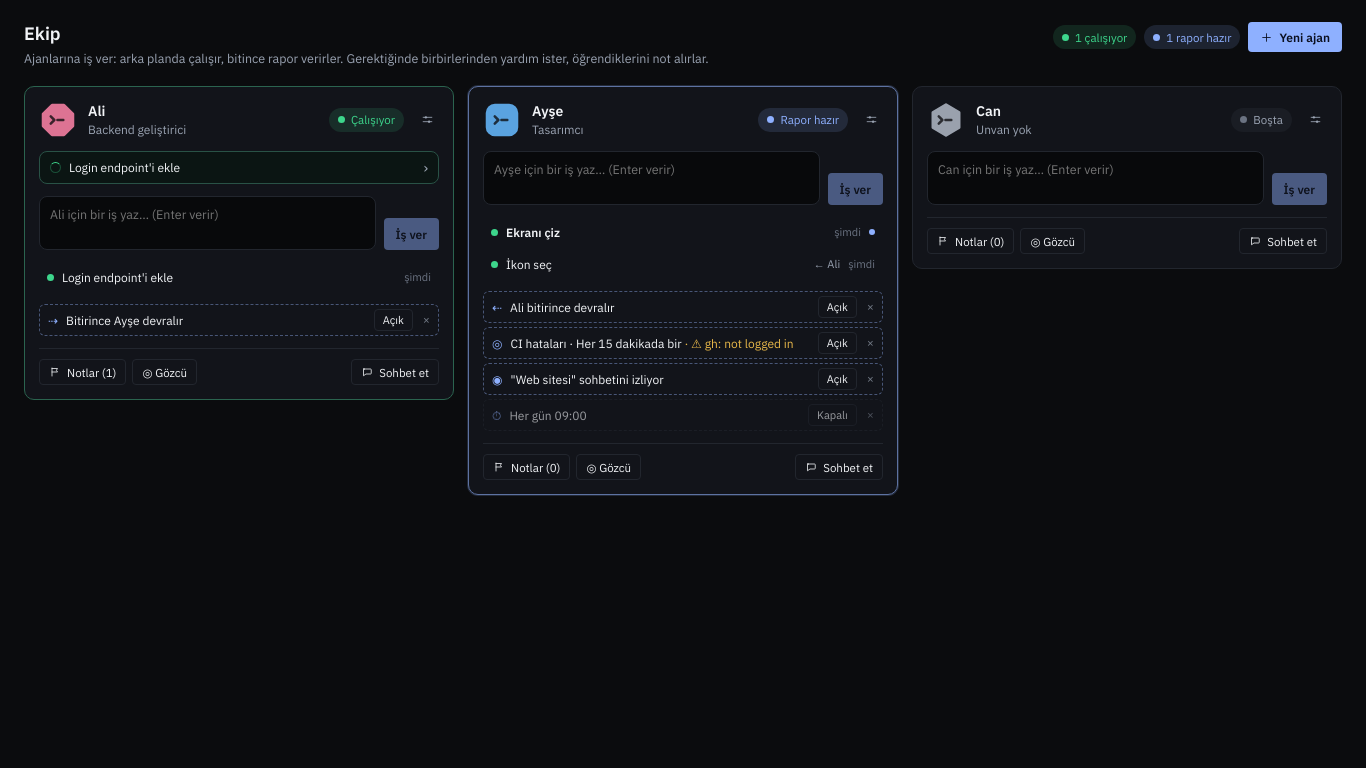
it: StaffBoard › hands a task over with Enter, and reading a report marks it read
This screenshot has width=1366, height=768.
Check: the text "Can" is shown, box [976,102,1001,120]
Type "README'yi güncelle" into the text box with placeholder "Can için bir iş yaz… (Enter verir)" at (1095, 178), box [927,151,1264,205]
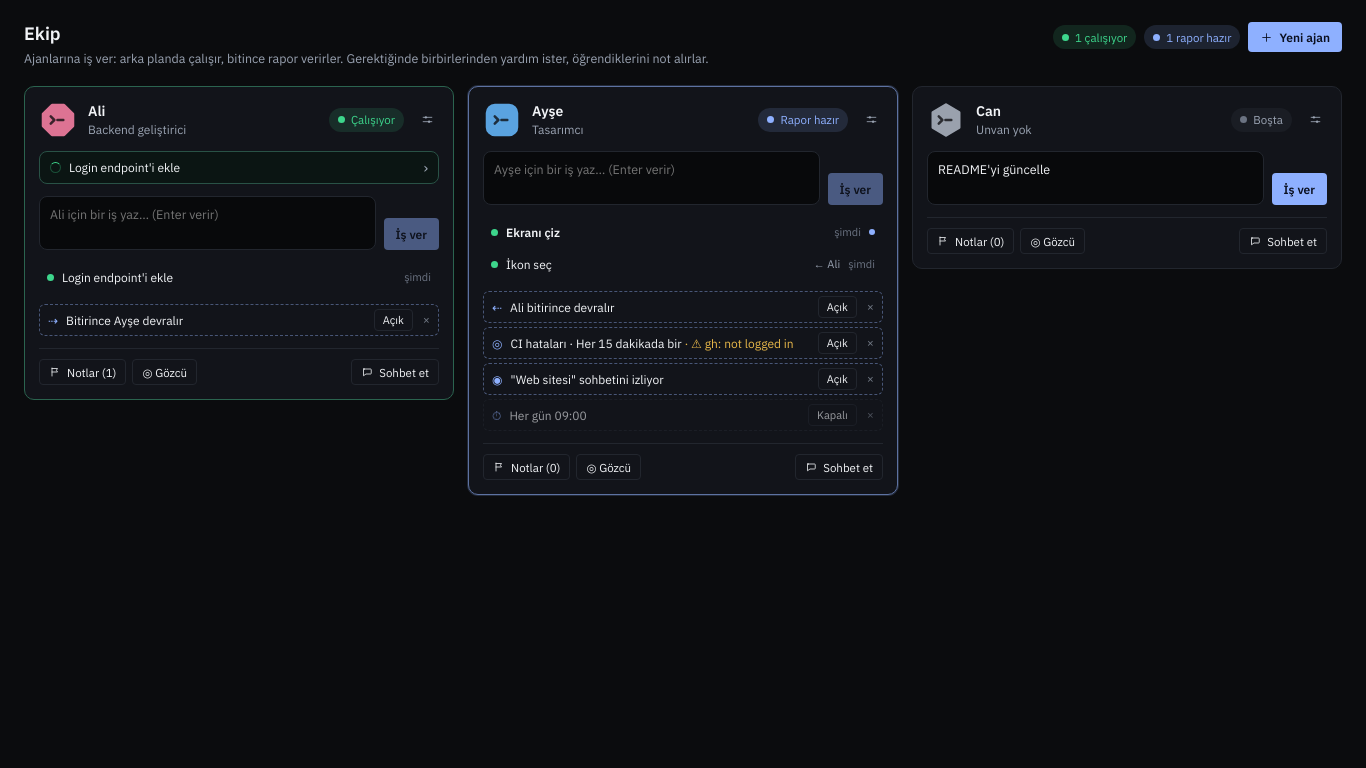
Press Enter in the 2nd text box, box [927,151,1264,205]
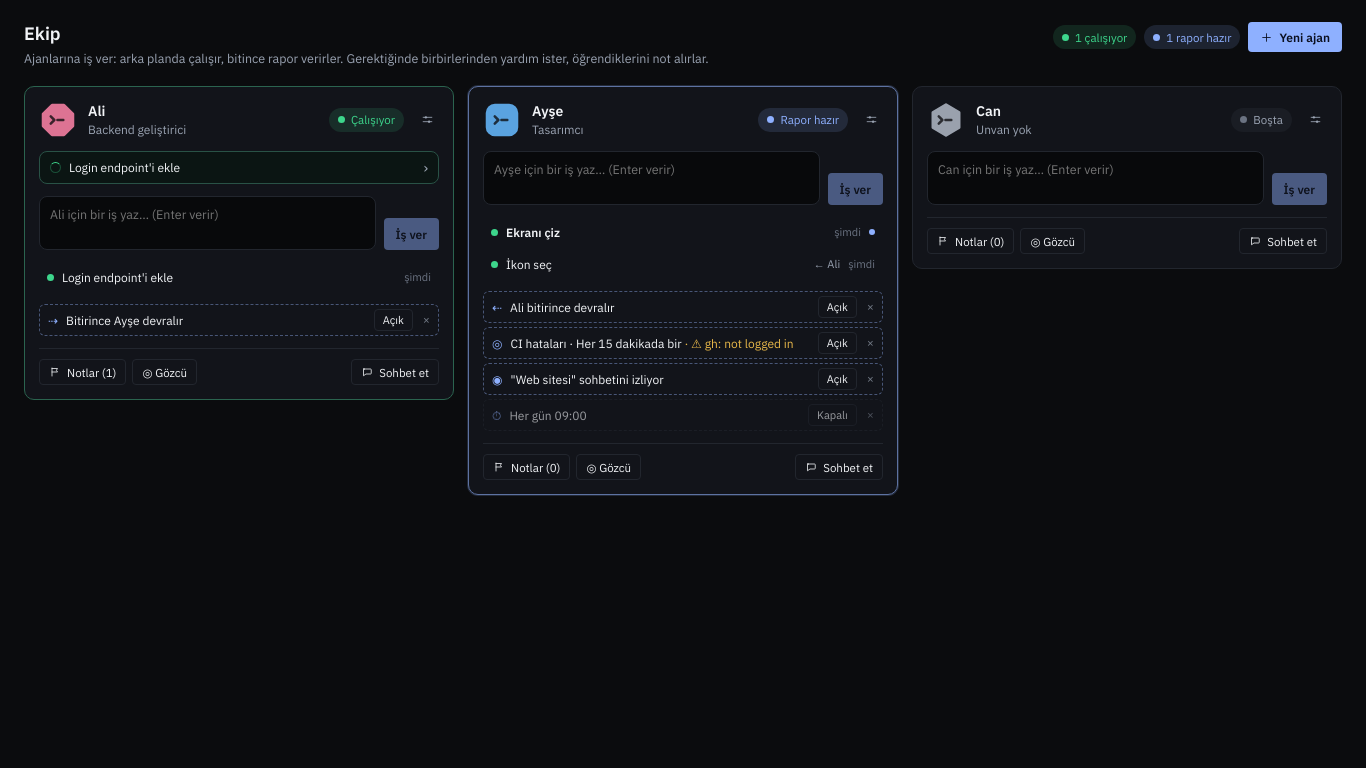
Click the button with class "staff-task-row" showing "Ekranı çiz şimdi" at (533, 232), box [483,217,883,247]
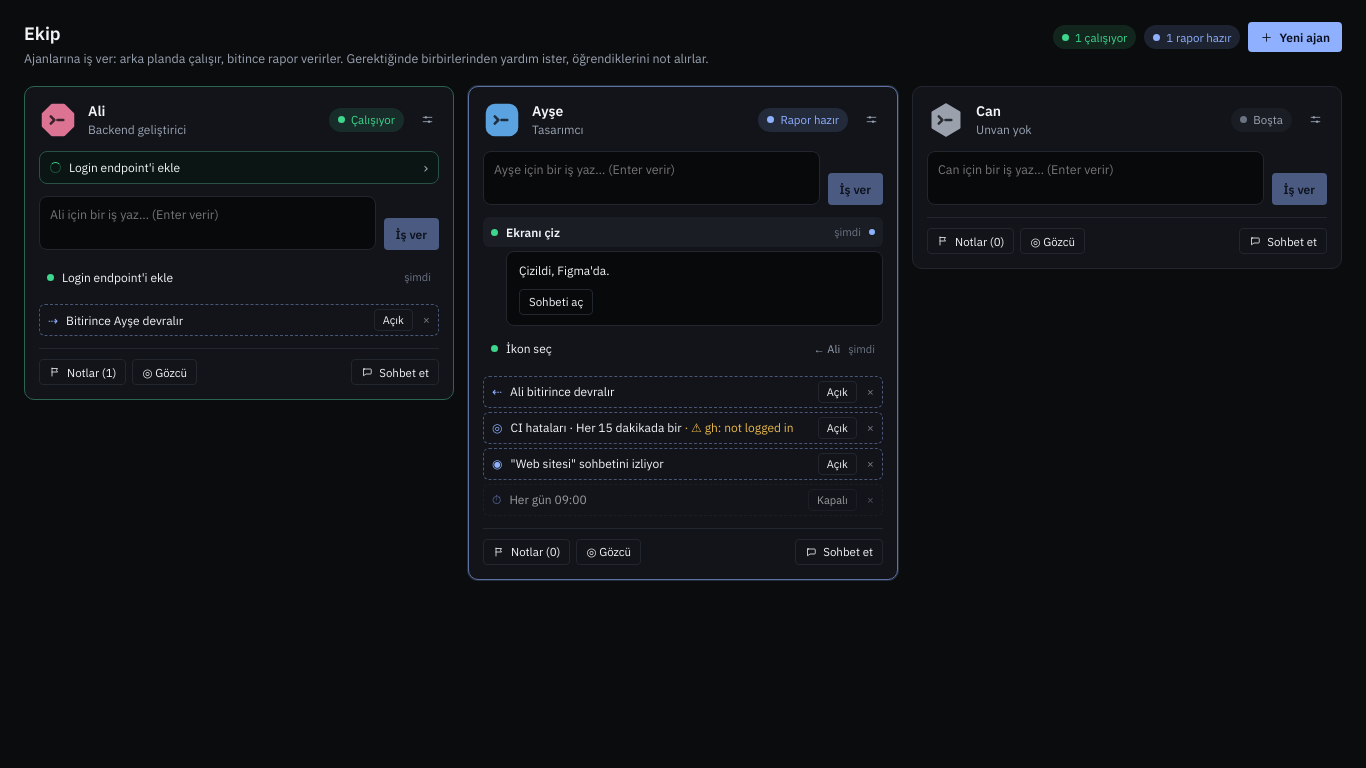
Check: the text "Çizildi, Figma'da." is shown, box [519,263,610,278]
